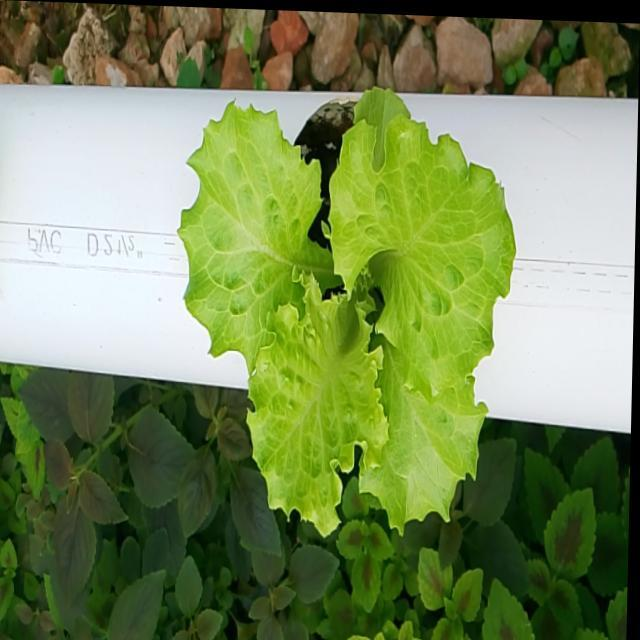Baby: (178, 97, 513, 544)
